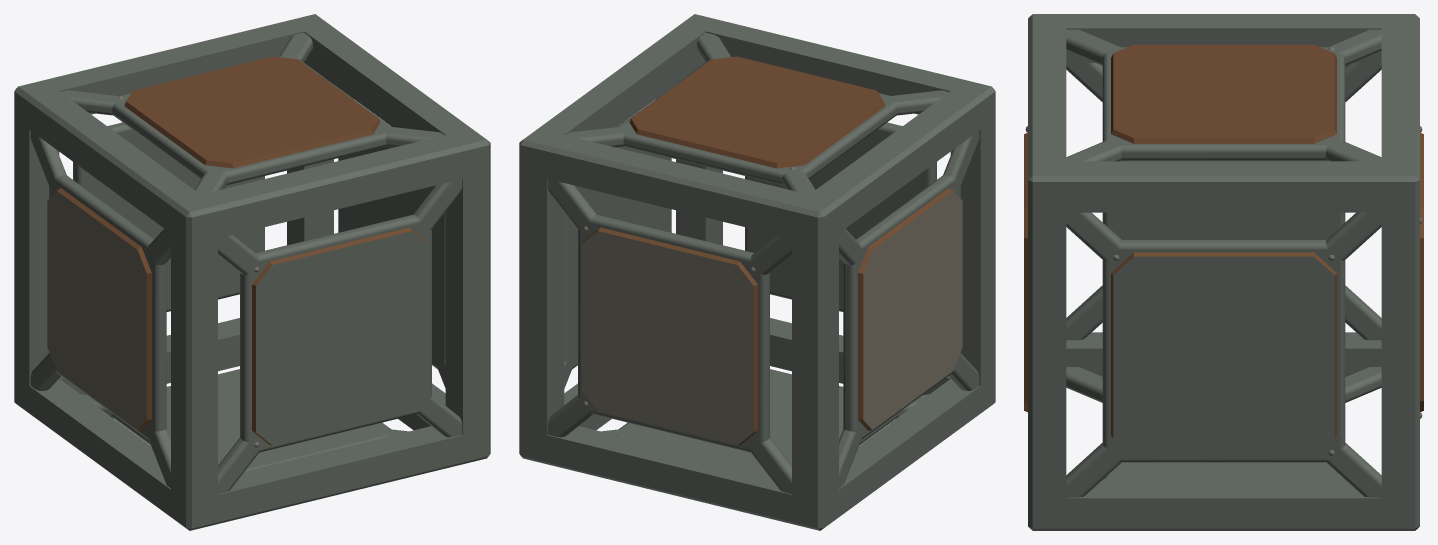
File: R4B_TrussCube.fbx
3 views of the same model, side by side, from view 1: azimuth 30°, elevation 25°; view 2: azimuth 150°, elevation 25°; view 3: azimuth 270°, elevation 25° (orthographic). The views are drawn at different scales.
Visible parts, largest first — view 1: R4B_TrussCube; view 2: R4B_TrussCube; view 3: R4B_TrussCube.
Boxes of the visible parts, <box> form: R4B_TrussCube: <box>14,14,490,530</box>; R4B_TrussCube: <box>519,14,995,530</box>; R4B_TrussCube: <box>1024,14,1423,530</box>.
Size of the model in its own units: 0.52 by 0.52 by 0.52.
